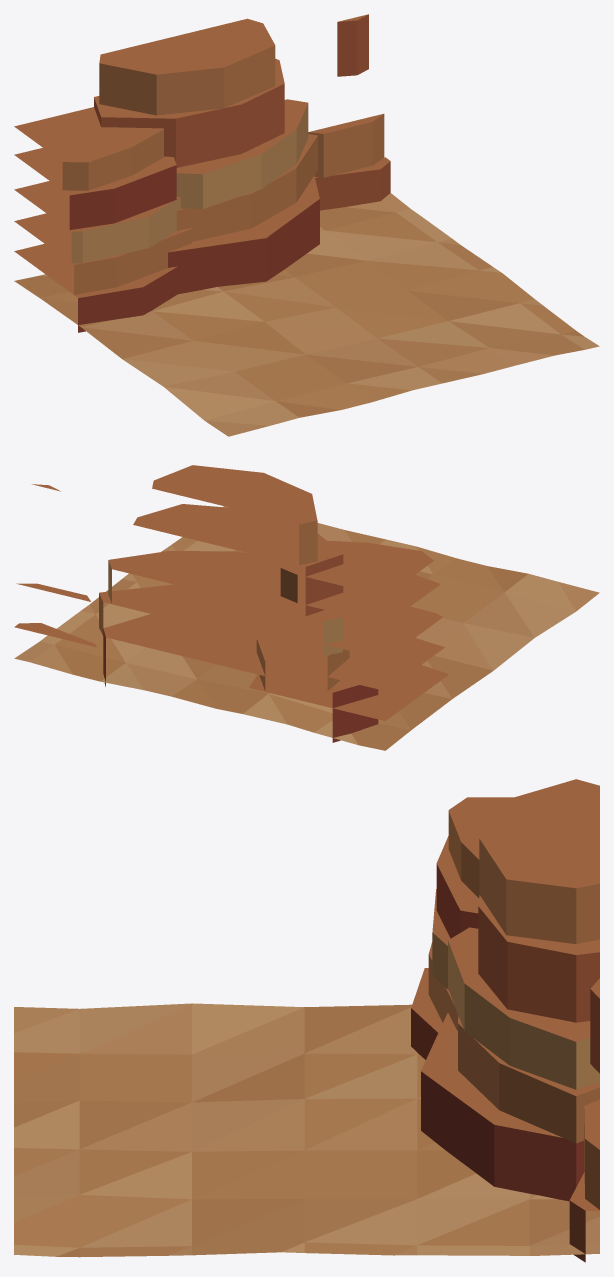
The picture shows the model from 3 angles, top to bottom: view 1: azimuth 30°, elevation 25°; view 2: azimuth 150°, elevation 25°; view 3: azimuth 270°, elevation 25°; orthographic projection. The views are drawn at different scales.
Parts seen in each view (by area): view 1: baked; view 2: baked; view 3: baked.
Boxes of the visible parts, left/top/right/bottom form: baked: left=14, top=14, right=599, bottom=436; baked: left=14, top=465, right=599, bottom=750; baked: left=14, top=779, right=599, bottom=1262.
Size of the model in its own units: 62.5 by 33.8 by 62.5.
